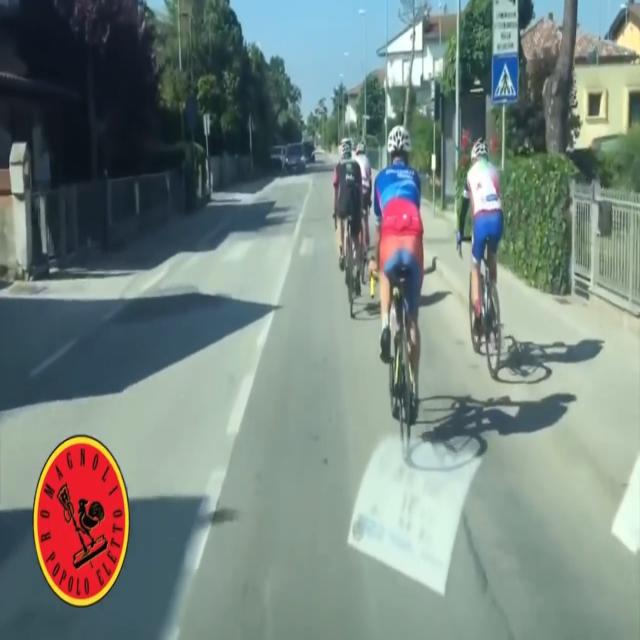Pedestrian crosswalk: (491, 52, 521, 103)
